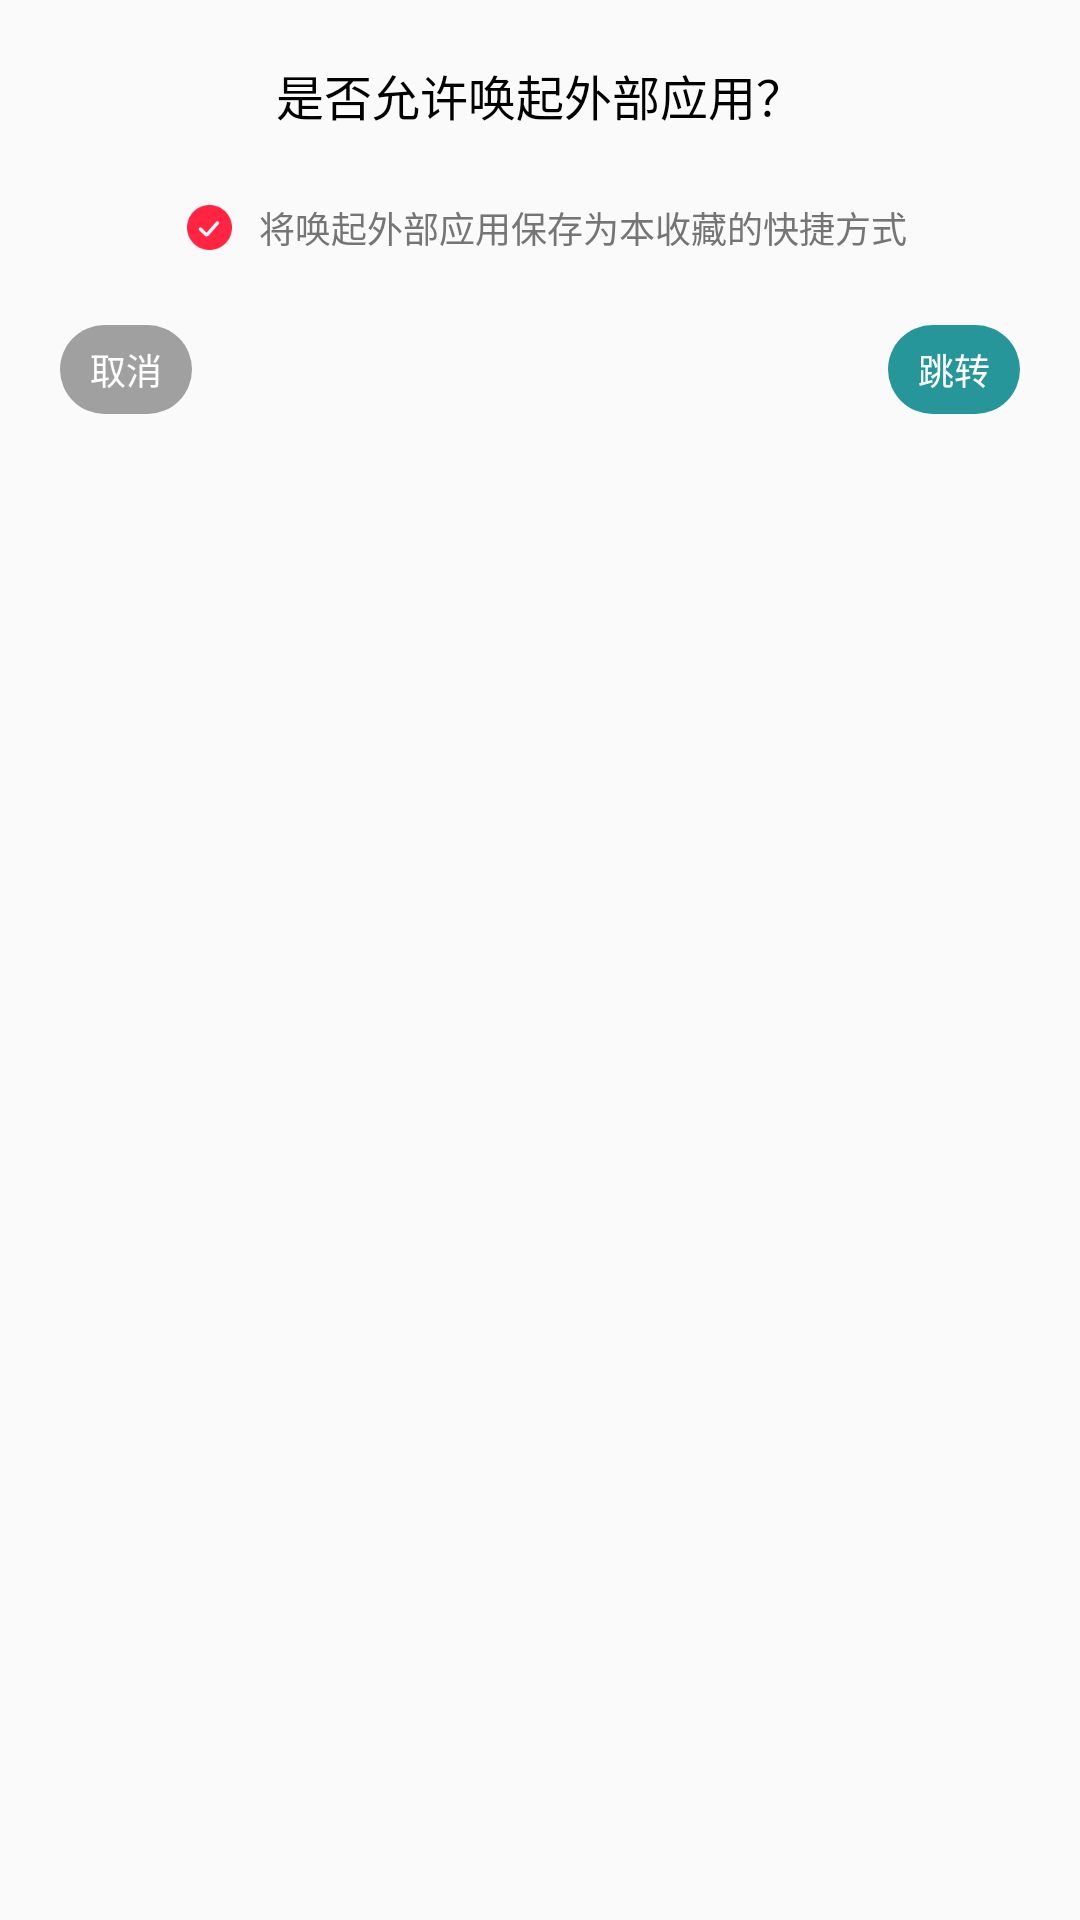

Icon click points for this 1080px×1920px phone screenshot, format point (x, y):
select press: point (209, 227)
